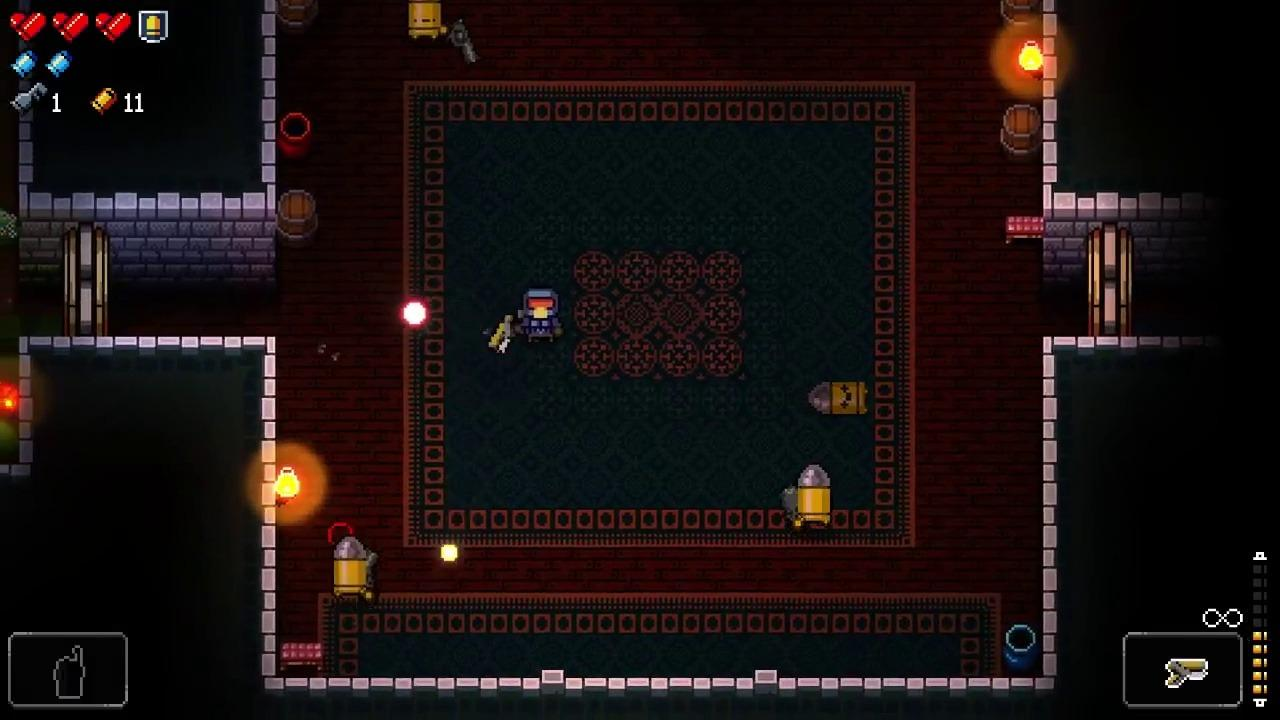bullet: (398, 298, 431, 330)
bullet_kin: (334, 536, 368, 597), (799, 464, 831, 525), (409, 0, 442, 41)
dead_bullet_kin: (806, 380, 867, 415)
locked_door: (1087, 222, 1133, 337), (64, 225, 109, 336)
player: (523, 289, 561, 341)
